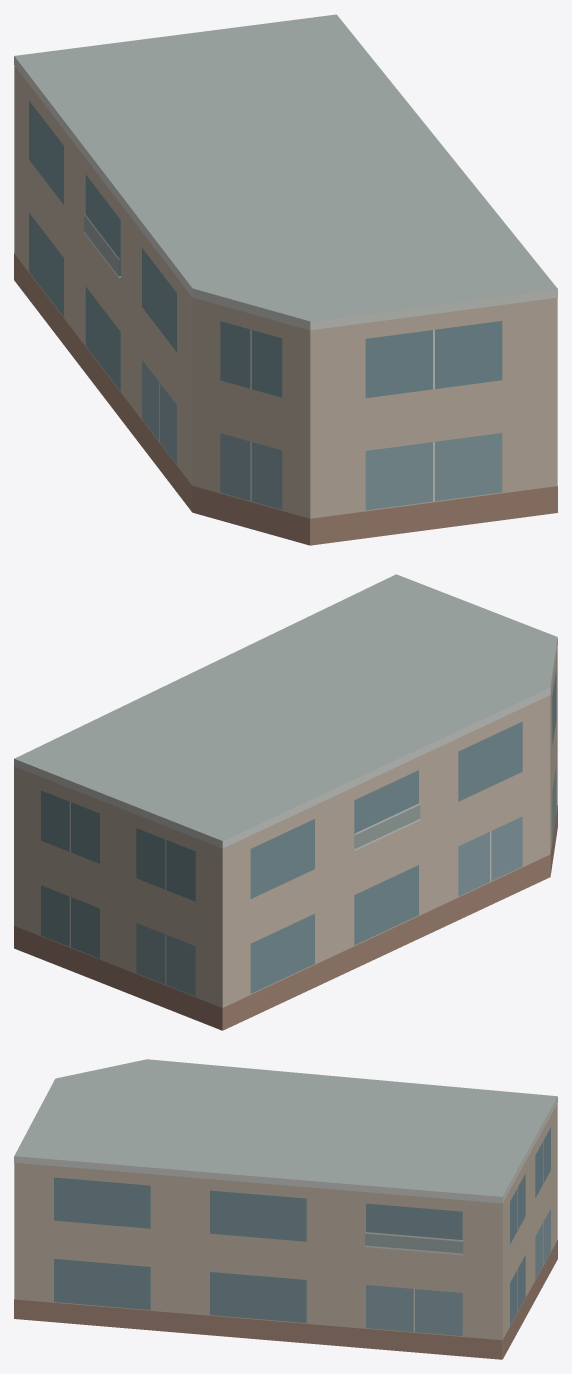
Rendered from survey-upis-32690112.glb.
3 renders of one model, top to bottom at view 1: azimuth 30°, elevation 25°; view 2: azimuth 150°, elevation 25°; view 3: azimuth 270°, elevation 25°, orthographic. The views are drawn at different scales.
Visible parts, largest first — view 1: survey-upis-32690112.tmp; view 2: survey-upis-32690112.tmp; view 3: survey-upis-32690112.tmp.
Boxes of the visible parts, left/top/right/bottom form: survey-upis-32690112.tmp: left=14, top=14, right=557, bottom=545; survey-upis-32690112.tmp: left=14, top=574, right=557, bottom=1030; survey-upis-32690112.tmp: left=14, top=1059, right=557, bottom=1359.
Bounding box in the file's own units: 11.09 × 6.1 × 18.48.
